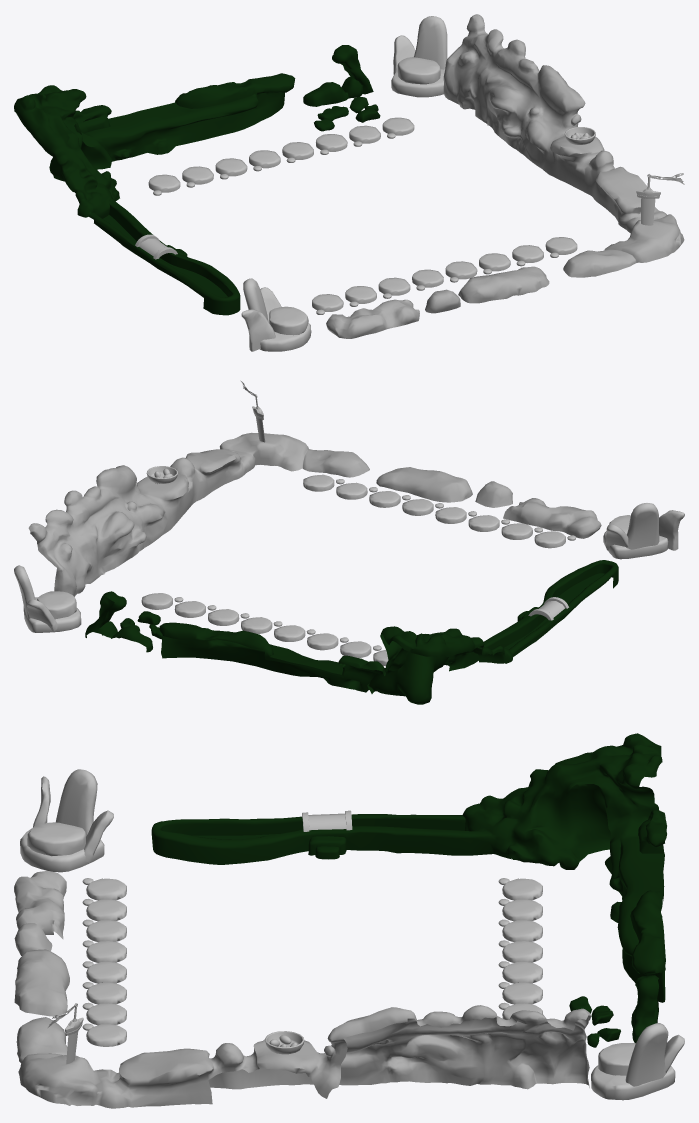
Rendered from location_1.fbx.
3 views of the same model, one above another, from view 1: azimuth 30°, elevation 25°; view 2: azimuth 150°, elevation 25°; view 3: azimuth 270°, elevation 25° (orthographic). The views are drawn at different scales.
Visible parts, largest first — view 1: ip1:lppolySurface8, ip1:lppolySurface20, polySurface5; view 2: ip1:lppolySurface8, ip1:lppolySurface20, polySurface5; view 3: ip1:lppolySurface8, ip1:lppolySurface20, polySurface5.
Boxes of the visible parts, box(x1,y1,x2,y2) form: ip1:lppolySurface8: box(326, 14, 684, 338); ip1:lppolySurface20: box(14, 45, 380, 315); polySurface5: box(135, 16, 660, 351); ip1:lppolySurface8: box(28, 432, 601, 596); ip1:lppolySurface20: box(85, 560, 618, 704); polySurface5: box(14, 394, 684, 666); ip1:lppolySurface8: box(14, 871, 590, 1108); ip1:lppolySurface20: box(151, 733, 666, 1047); polySurface5: box(20, 769, 684, 1100).
Size of the model in its own units: 2056 by 362 by 2045.
